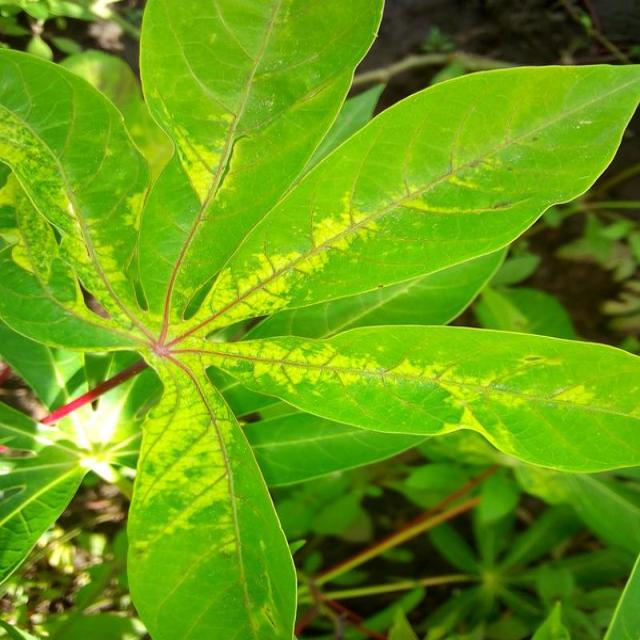cassava leaf: (2, 1, 640, 638), (202, 59, 640, 342)
